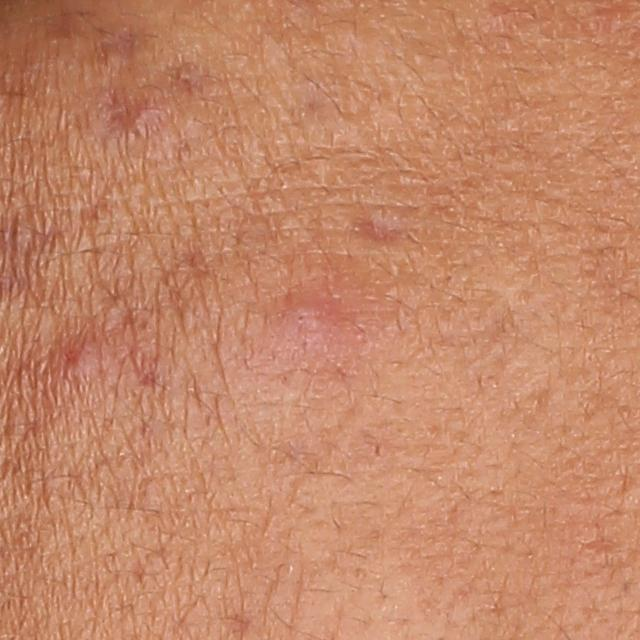atrophic_scar: (349, 208, 417, 249)
papule: (278, 295, 345, 352), (53, 334, 102, 381)
